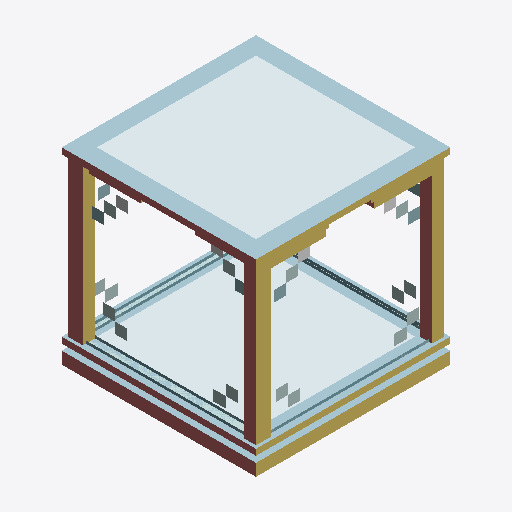
Isometric view (azimuth 45°, elevation 35.3°) of a Minecraft model made of 22 cuboids, textured from the same repository.
Visible parts, largest first — element 20, element 17, element 21, element 7, element 6, element 8, element 4, element 22, element 1, element 2, element 3, element 13.
Part boxes in pixels (x1,y1,x2,y2): element 20: (62,35,449,265); element 17: (62,251,449,455); element 21: (62,347,449,469); element 7: (244,258,270,444); element 6: (68,158,94,344); element 8: (420,158,443,342); element 4: (86,195,243,434); element 22: (62,358,449,476); element 1: (271,196,428,432); element 2: (95,184,227,330); element 3: (293,184,419,328); element 13: (195,230,325,268).
Size of the model in its own units: 16 by 15.5 by 16.